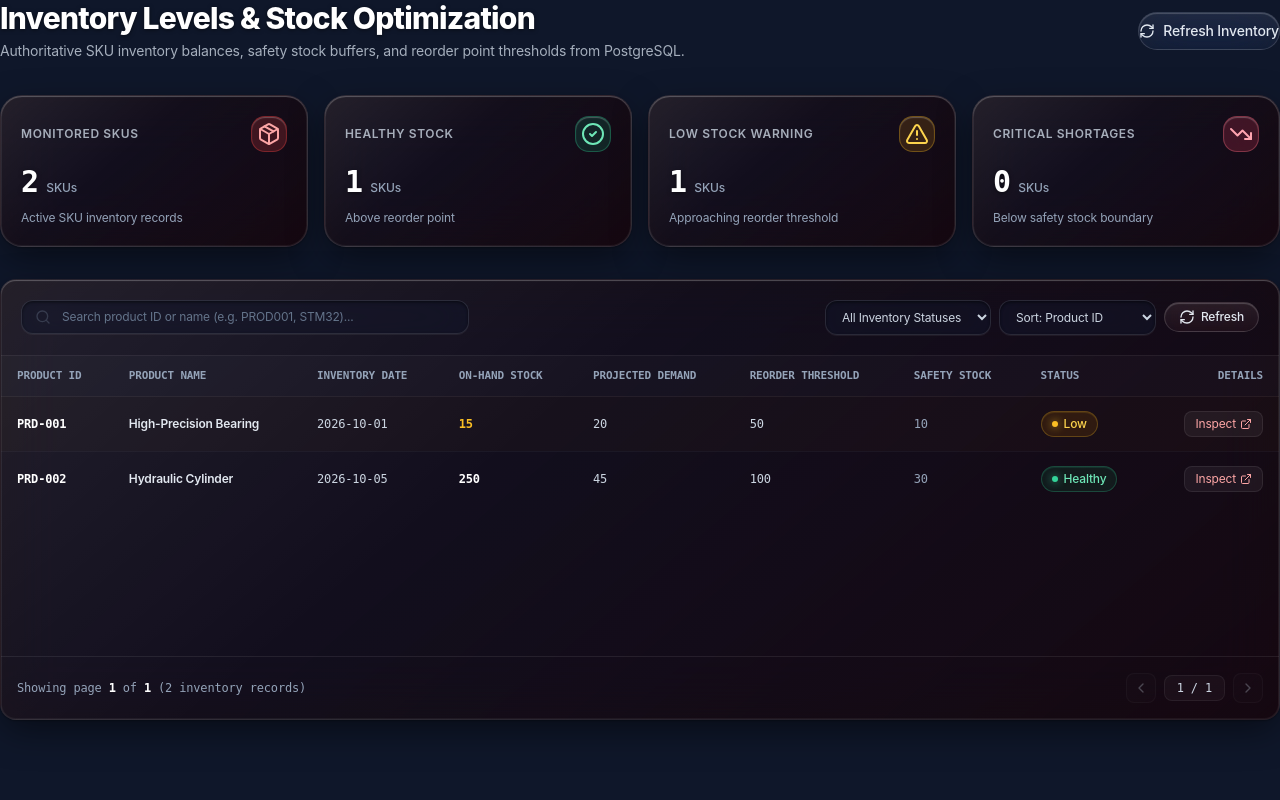
Scenario: Inventory Page › renders inventory items, displays stock statuses and inspects product detail modal
This screenshot has width=1280, height=800.
Expected: the heading "Inventory Levels & Stock Optimization" is shown, x1=0 y1=0 x2=535 y2=36
Expected: the text "High-Precision Bearing" is shown, x1=113 y1=396 x2=301 y2=451
# Click Inspect to open modal
Click the button "Inspect" in the row of "PRD-001". click: (1224, 424)
box: x1=1184 y1=411 x2=1263 y2=437
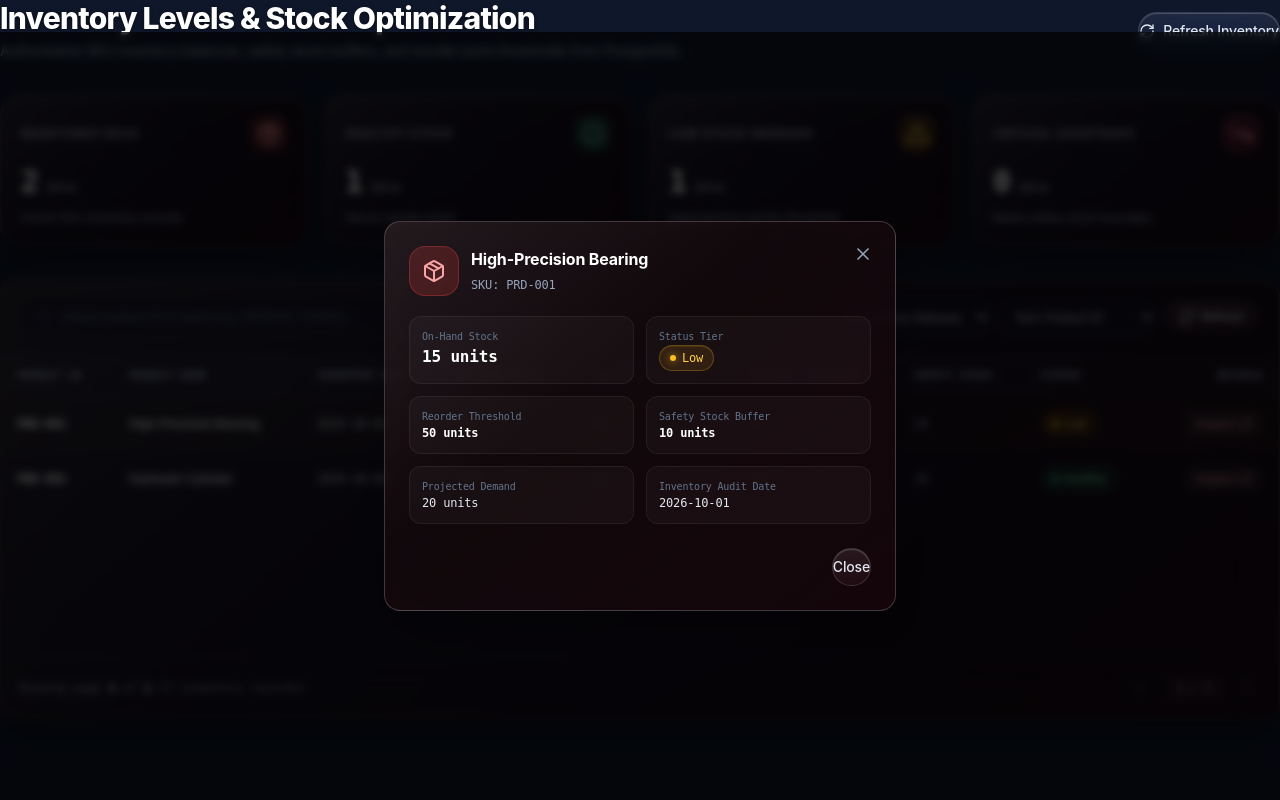
Expected: the text "SKU: PRD-001" is shown, x1=471 y1=278 x2=556 y2=292
Expected: the text "15 units" is shown, x1=422 y1=347 x2=498 y2=366
